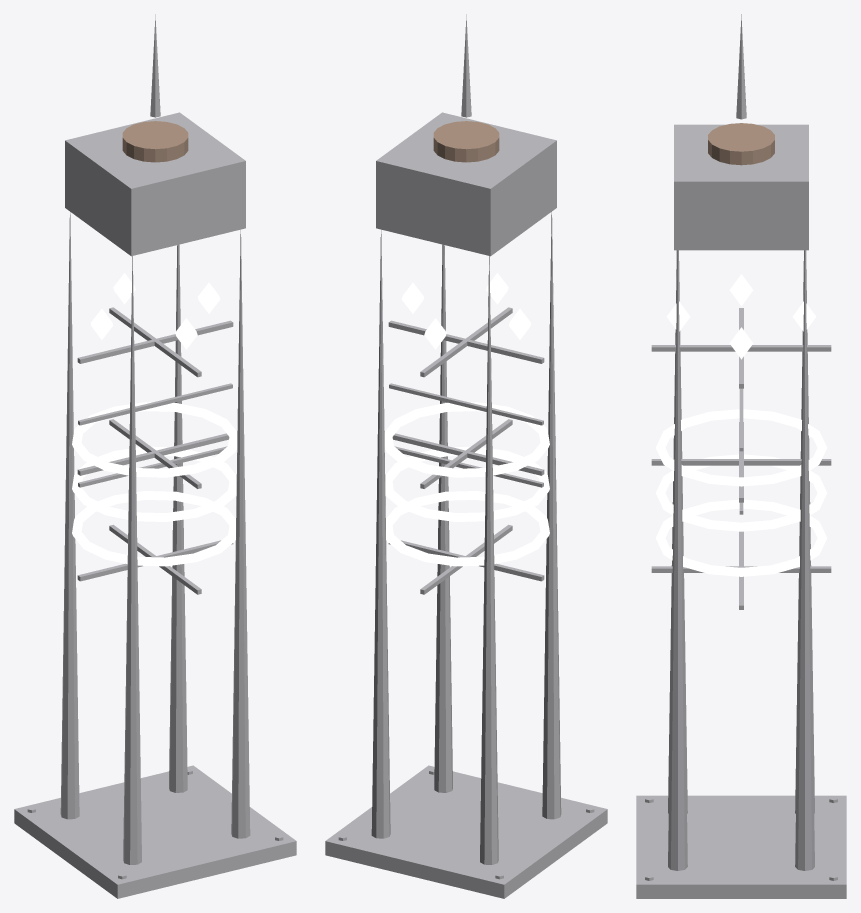
The model's file is derrick_epic.glb.
3 renders of one model, left to right at view 1: azimuth 30°, elevation 25°; view 2: azimuth 150°, elevation 25°; view 3: azimuth 270°, elevation 25°, orthographic.
Parts seen in each view (by area): view 1: derrick; view 2: derrick; view 3: derrick.
Part boxes in pixels (left/top/right/bottom): derrick: left=14, top=14, right=296, bottom=898; derrick: left=325, top=14, right=607, bottom=898; derrick: left=636, top=14, right=846, bottom=898.
Bounding box in the file's own units: 2.11 × 9.3 × 2.11.
